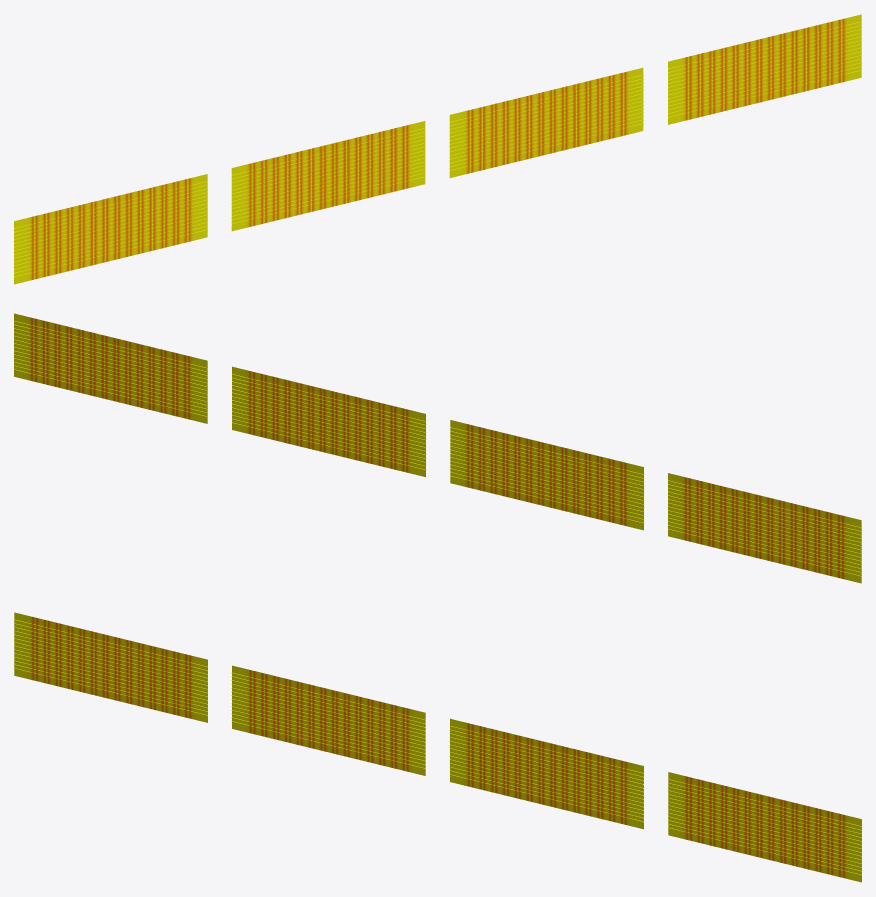
Rendered from RB_Walls_1_1.fbx.
3 renders of one model, top to bottom at view 1: azimuth 30°, elevation 25°; view 2: azimuth 150°, elevation 25°; view 3: azimuth 330°, elevation 25°, orthographic.
Parts seen in each view (by area): view 1: beam_0.5x2_Cube.366_beam_0.5x2_Cube.005; view 2: beam_0.5x2_Cube.366_beam_0.5x2_Cube.005; view 3: beam_0.5x2_Cube.366_beam_0.5x2_Cube.005.
Boxes of the visible parts, left/top/right/bottom form: beam_0.5x2_Cube.366_beam_0.5x2_Cube.005: left=14, top=14, right=861, bottom=284; beam_0.5x2_Cube.366_beam_0.5x2_Cube.005: left=14, top=313, right=861, bottom=583; beam_0.5x2_Cube.366_beam_0.5x2_Cube.005: left=14, top=612, right=861, bottom=882.
Size of the model in its own units: 3500 by 250 by 3.
